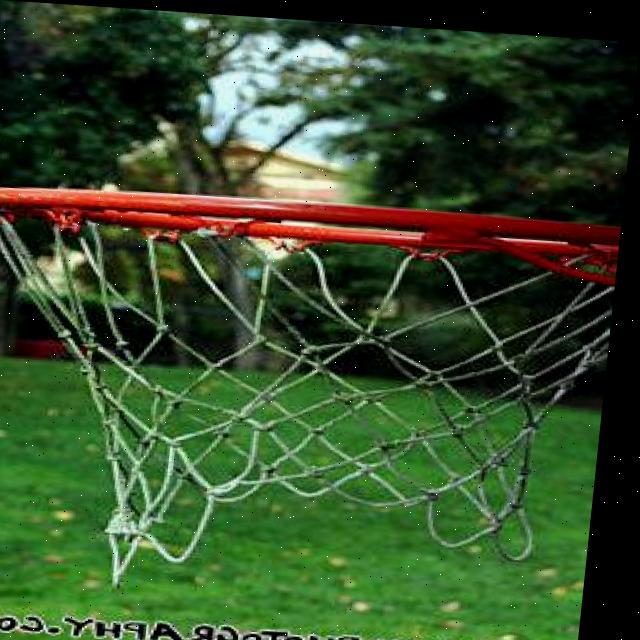hoop: (0, 161, 623, 588)
